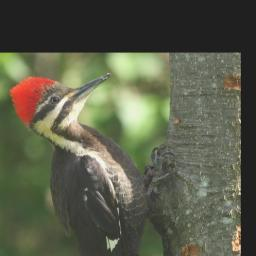Woodpecker: (11, 72, 174, 256)
